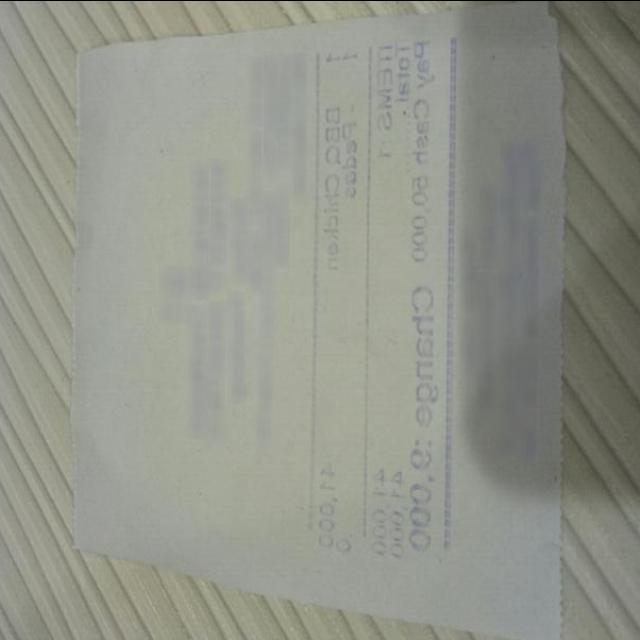kertas: (70, 0, 566, 640)
